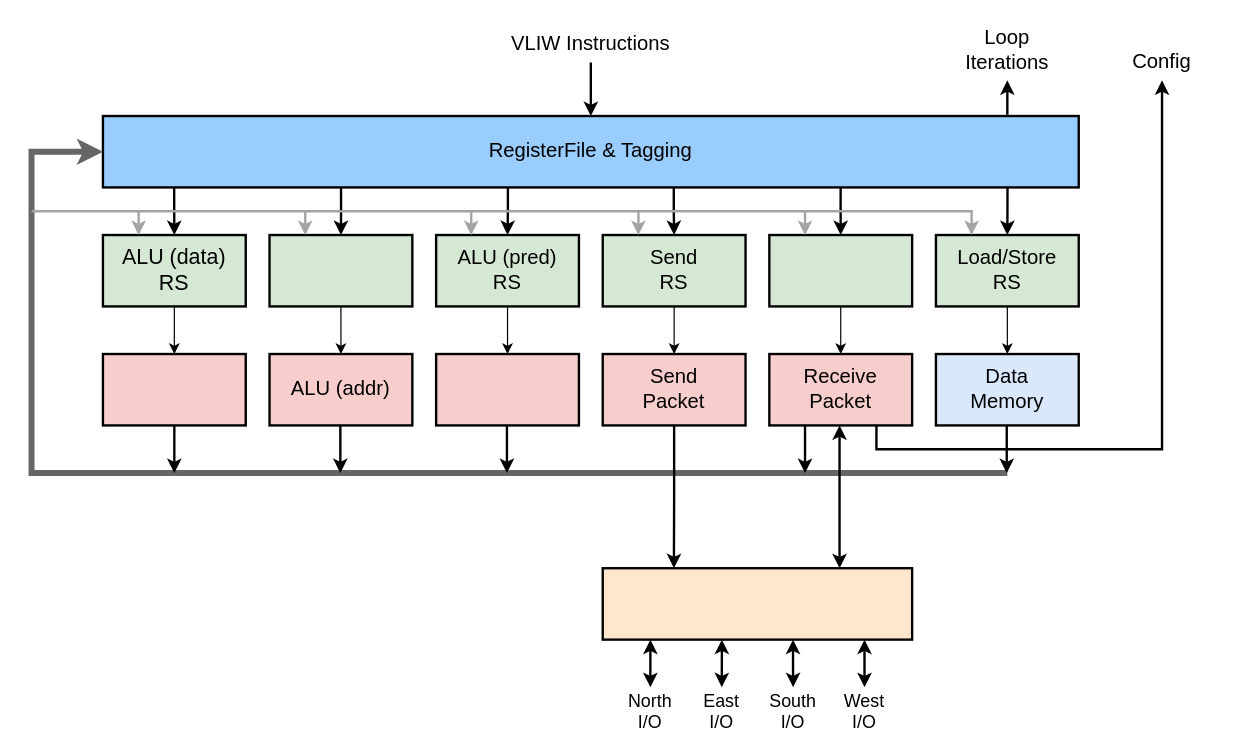
This 1242x754 diagram has some shape labels left out. Each missing label, with the centre of its shape:
ALU (addr) RS: the point at 340,270
ALU (data): the point at 173,389
ALU (pred): the point at 507,389
Network Node: the point at 757,603
Receive RS: the point at 840,270
